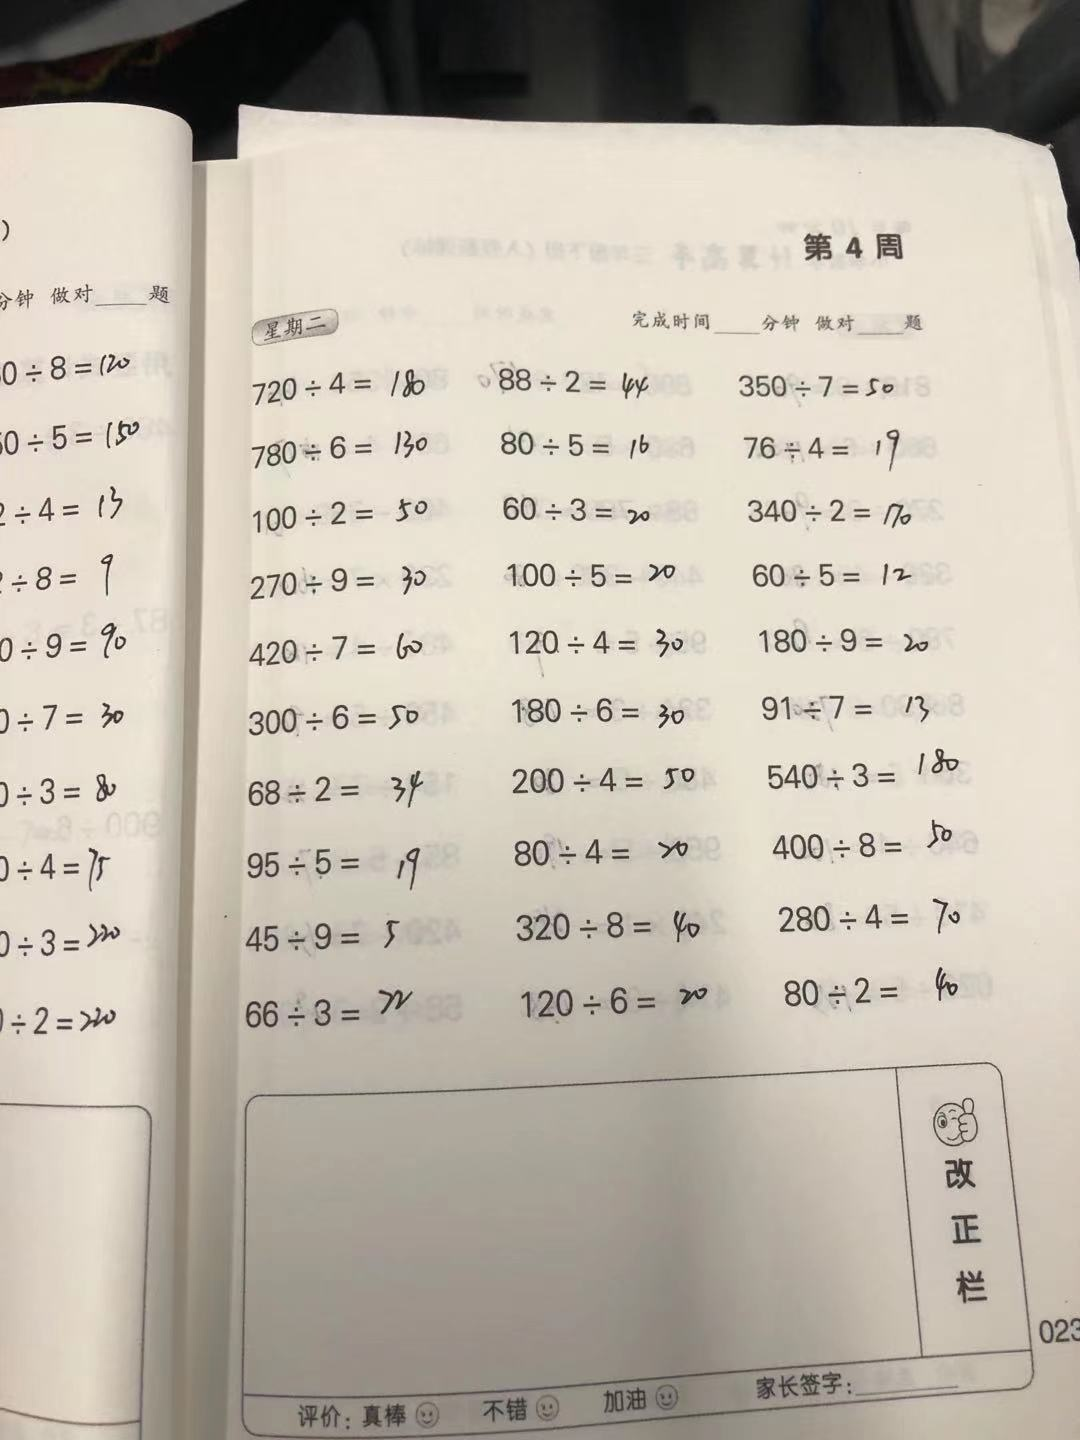equation: (761, 812, 992, 869), (230, 839, 461, 895), (739, 747, 987, 798), (244, 422, 457, 476), (751, 890, 994, 938), (225, 764, 442, 816), (234, 981, 433, 1035), (228, 362, 444, 412), (244, 695, 445, 748), (497, 681, 704, 732), (739, 550, 944, 601), (233, 558, 452, 605), (503, 755, 719, 802), (501, 547, 708, 595), (244, 624, 448, 672), (233, 915, 436, 964), (508, 976, 729, 1020), (244, 495, 459, 541), (762, 969, 984, 1013), (739, 622, 959, 664), (497, 493, 701, 537), (739, 427, 936, 473), (493, 362, 673, 410), (733, 493, 931, 536), (497, 621, 697, 662), (724, 367, 922, 408), (513, 908, 714, 948), (491, 427, 691, 467), (741, 691, 950, 728), (503, 832, 711, 865)
